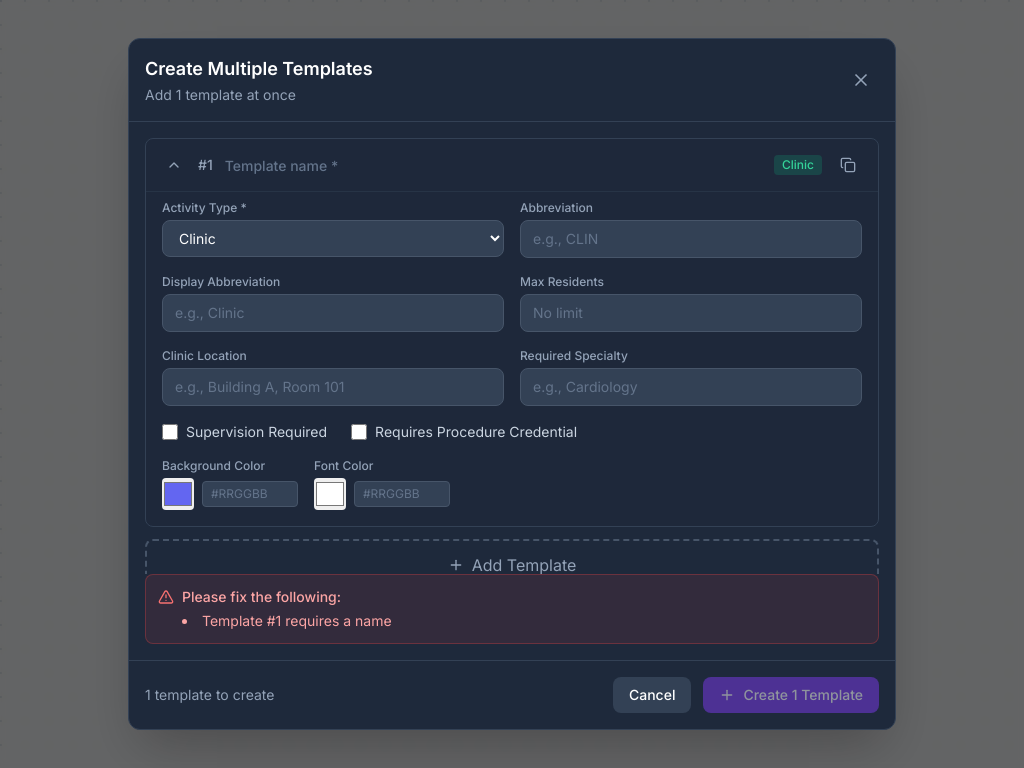
BulkCreateModal › Template Management › should duplicate template when duplicate button is clicked
Fill in a name first
Type "Original Template" into the field with placeholder "Template name *".
click(493, 166); type("Original Template")  # box [225,156,762,176]
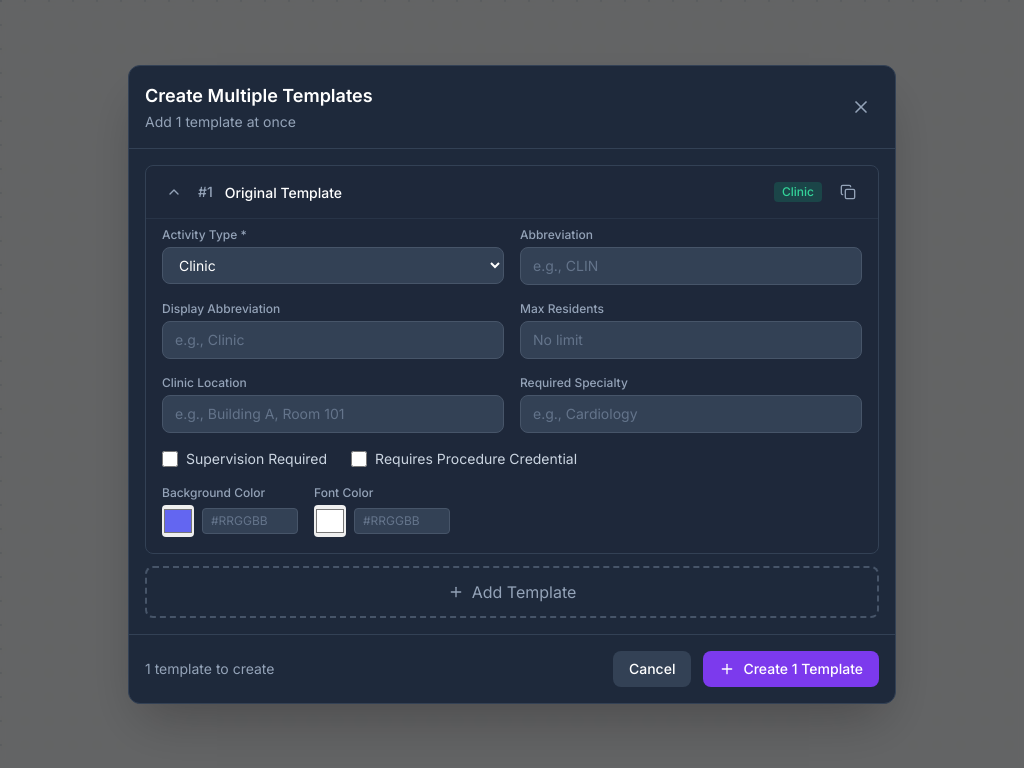
Click duplicate
Click the button titled "Duplicate".
click(848, 192)  # box [834,178,862,206]
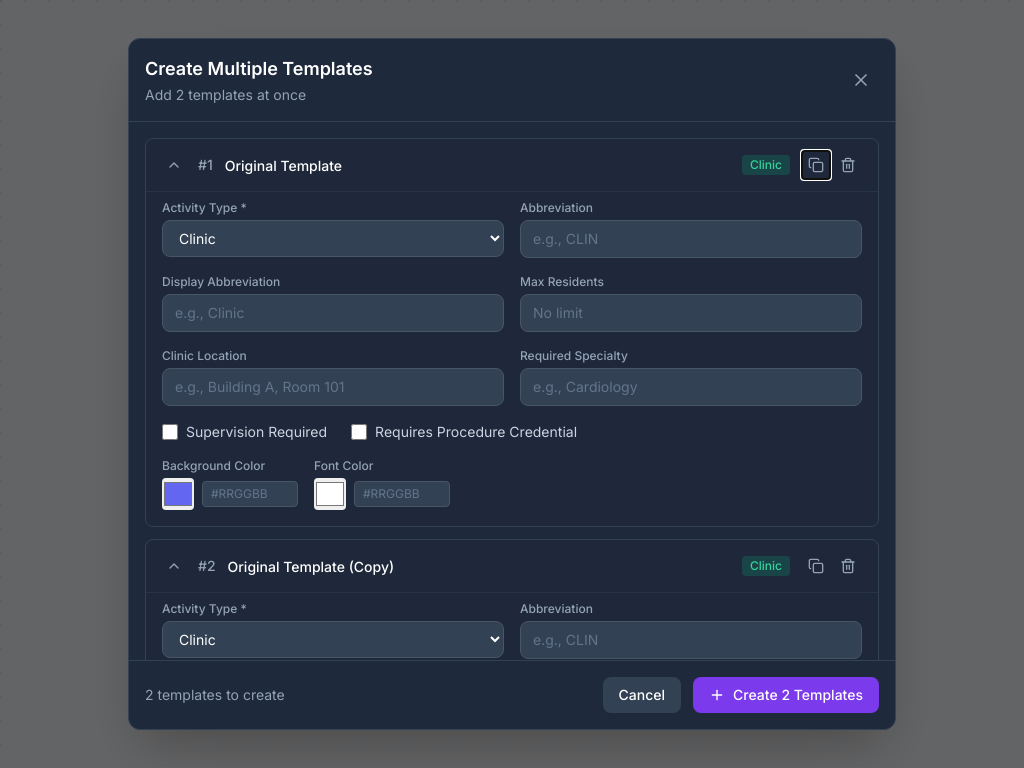
Expected: the text "#1" is shown, [198,155,213,175]
Result: the text "#2" is shown at [198,556,216,576]
